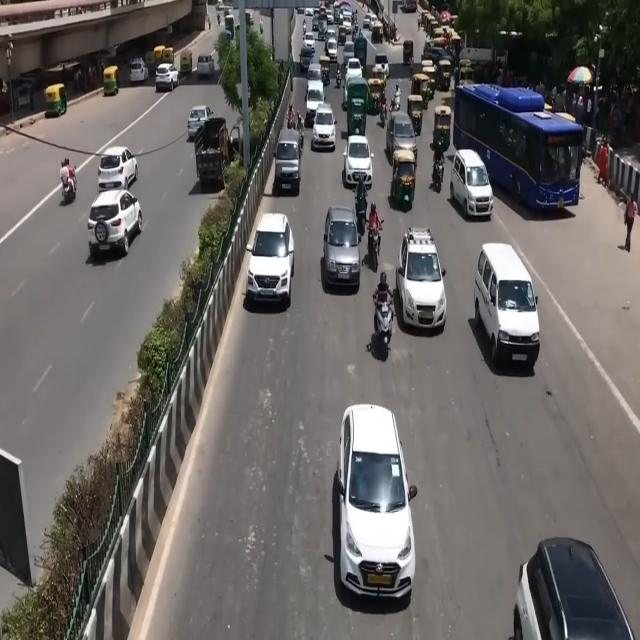auto: (391, 147, 418, 210), (433, 104, 452, 152), (410, 72, 431, 112), (44, 84, 67, 118), (406, 94, 424, 136), (420, 62, 438, 100), (437, 58, 452, 92), (103, 65, 119, 96), (458, 58, 475, 85), (179, 50, 193, 74), (431, 23, 445, 42)
bike-auto: (373, 288, 395, 349), (366, 203, 384, 256), (354, 184, 368, 234), (61, 162, 77, 202), (431, 156, 445, 192), (297, 114, 307, 152), (392, 84, 401, 109), (287, 106, 296, 130), (379, 101, 387, 126), (297, 110, 304, 132), (336, 63, 341, 87), (302, 19, 307, 35), (418, 14, 422, 30), (217, 13, 220, 26)
